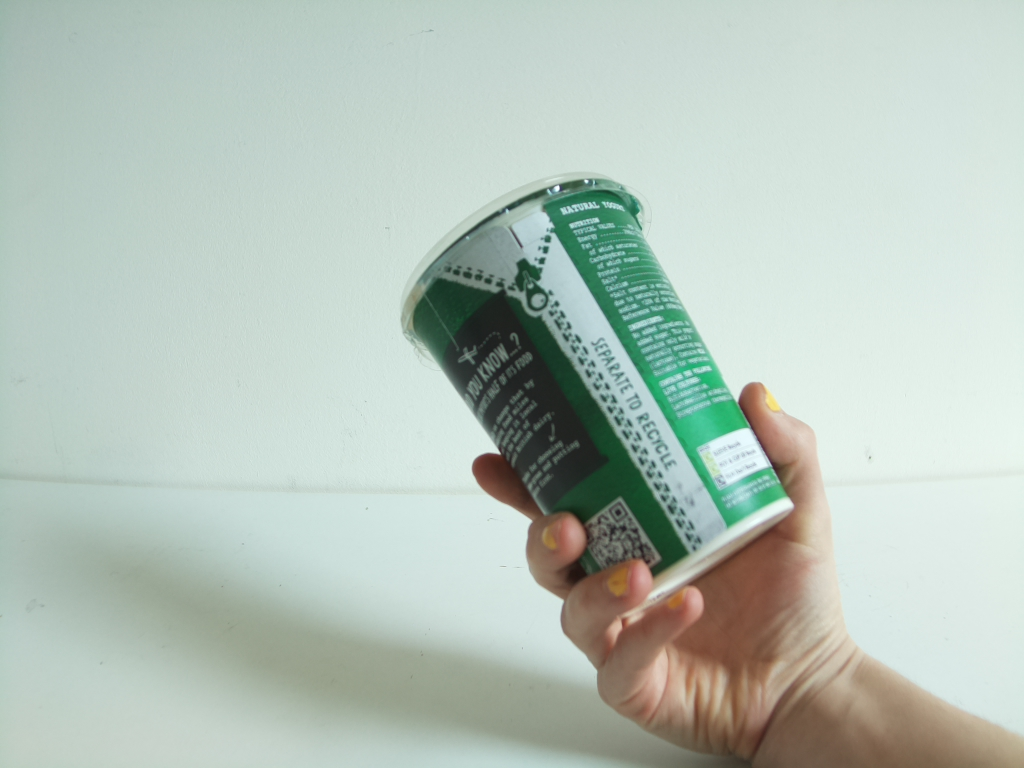yogurt: (394, 163, 798, 619)
